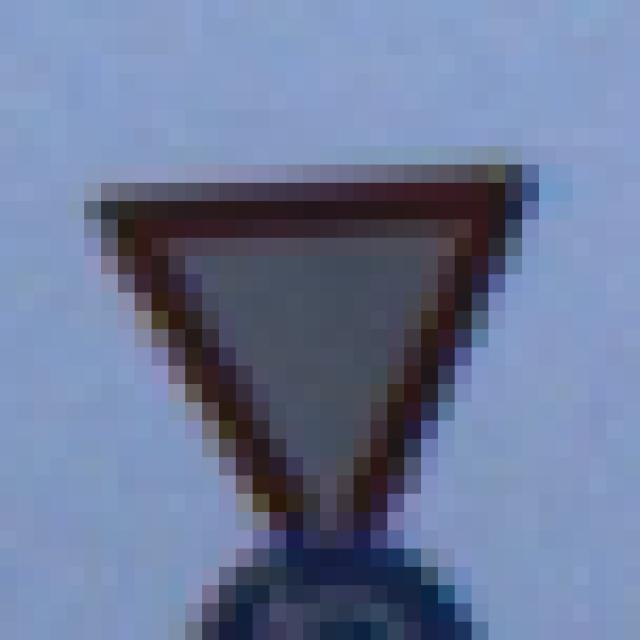Give Way: (85, 111, 557, 550)
